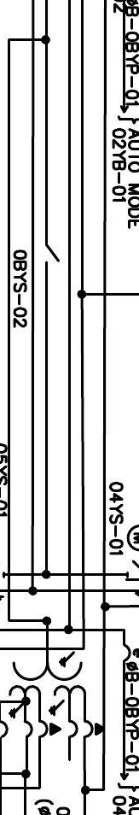115_ds: (44, 243, 60, 265)
115_vt_1p: (8, 650, 105, 739)
